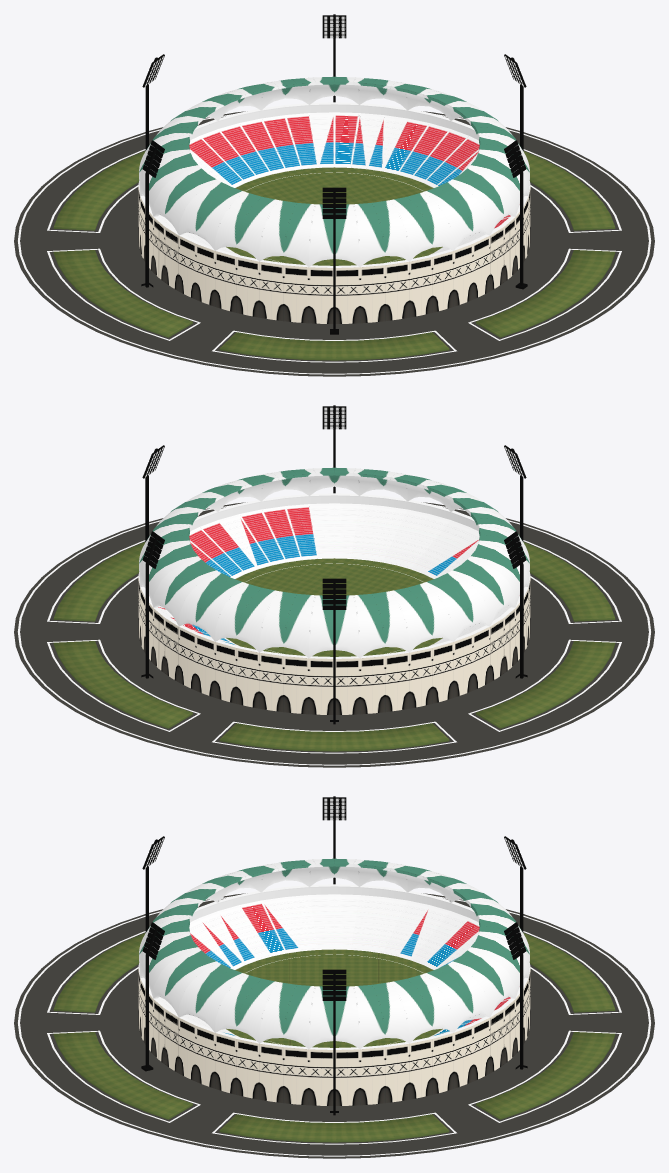
File: ekana_stadium_low_poly_lucknow_city_game_asset.glb
The picture shows the model from 3 angles, top to bottom: view 1: azimuth 30°, elevation 25°; view 2: azimuth 150°, elevation 25°; view 3: azimuth 270°, elevation 25°; orthographic projection.
Parts seen in each view (by area): view 1: Ekana Stadium_Ekana Stadium_0; view 2: Ekana Stadium_Ekana Stadium_0; view 3: Ekana Stadium_Ekana Stadium_0.
Boxes of the visible parts, <box> form: Ekana Stadium_Ekana Stadium_0: <box>14,14,654,376</box>; Ekana Stadium_Ekana Stadium_0: <box>14,405,654,767</box>; Ekana Stadium_Ekana Stadium_0: <box>14,796,654,1158</box>.
Size of the model in its own units: 95.04 by 22.94 by 95.04.
1 material, 1 textured.
